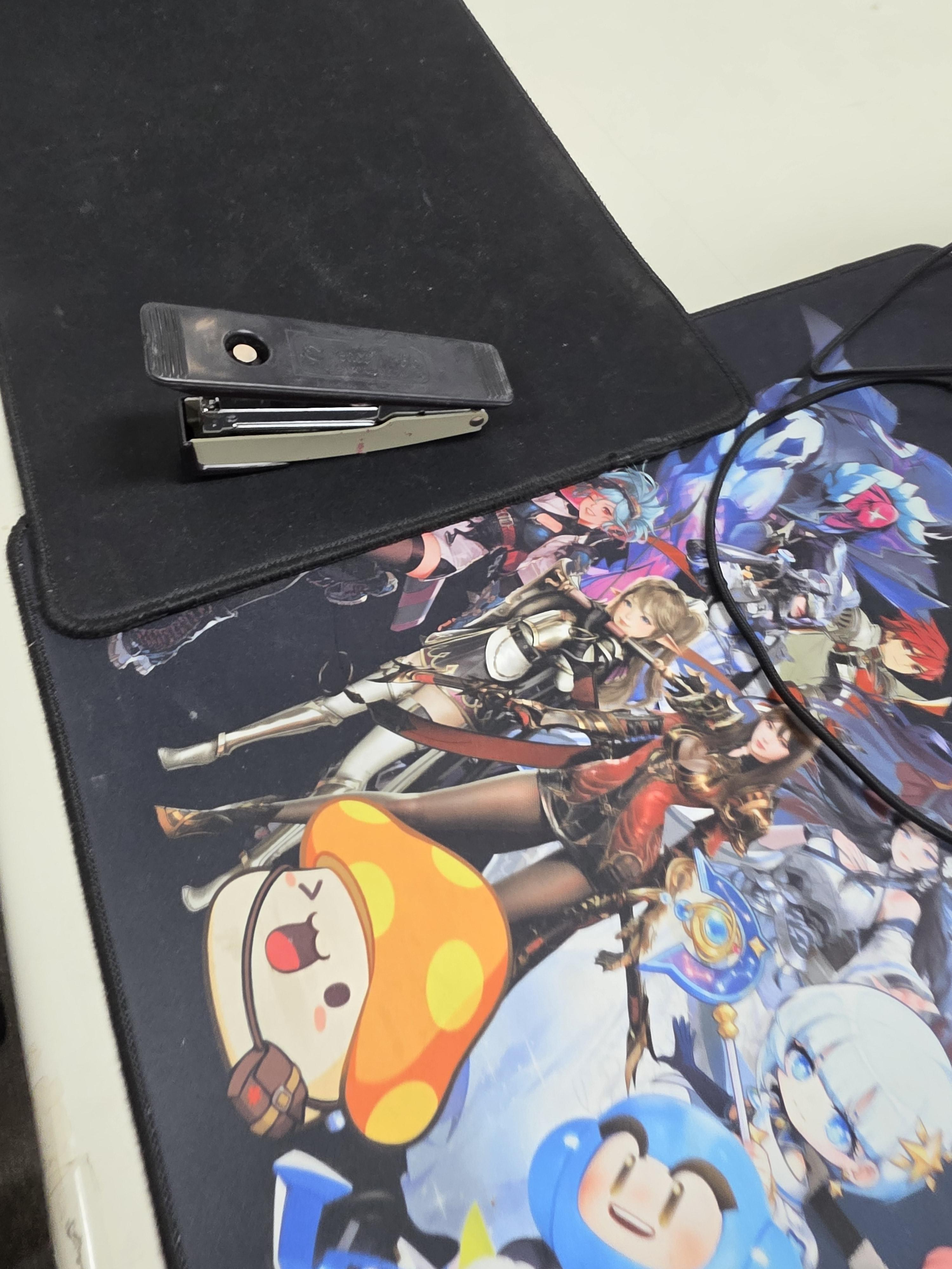stapler: (139, 302, 514, 473)
